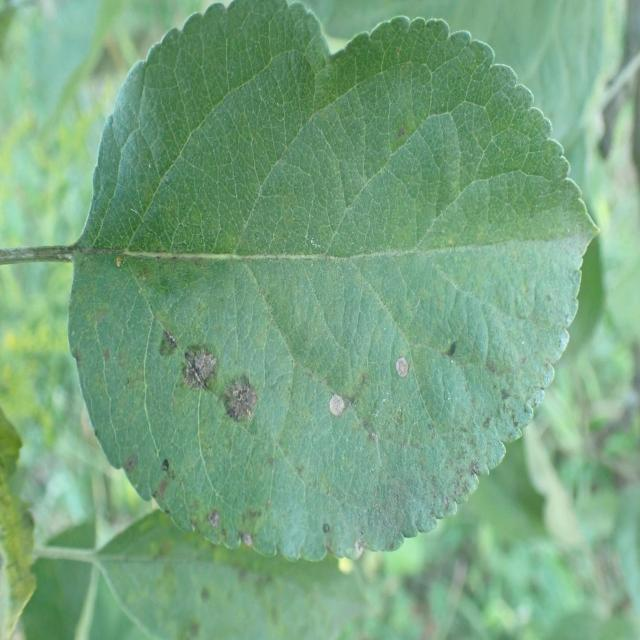frog-eye-leaf-spot: (67, 0, 600, 562)
